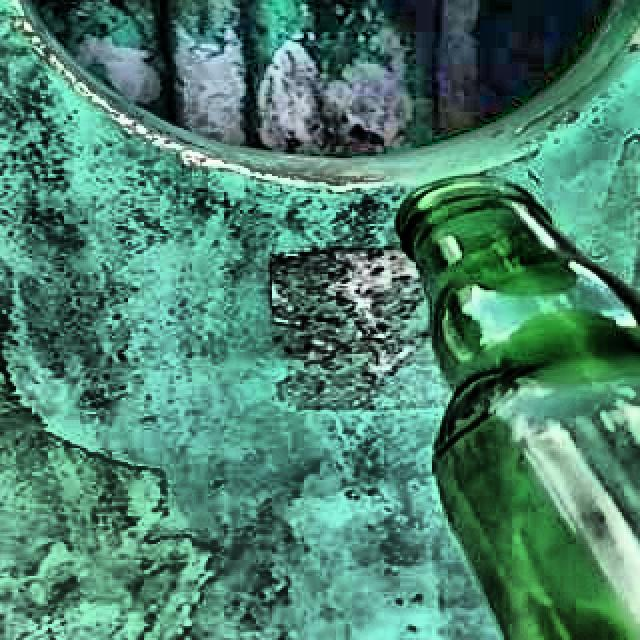glass: (397, 176, 640, 640)
